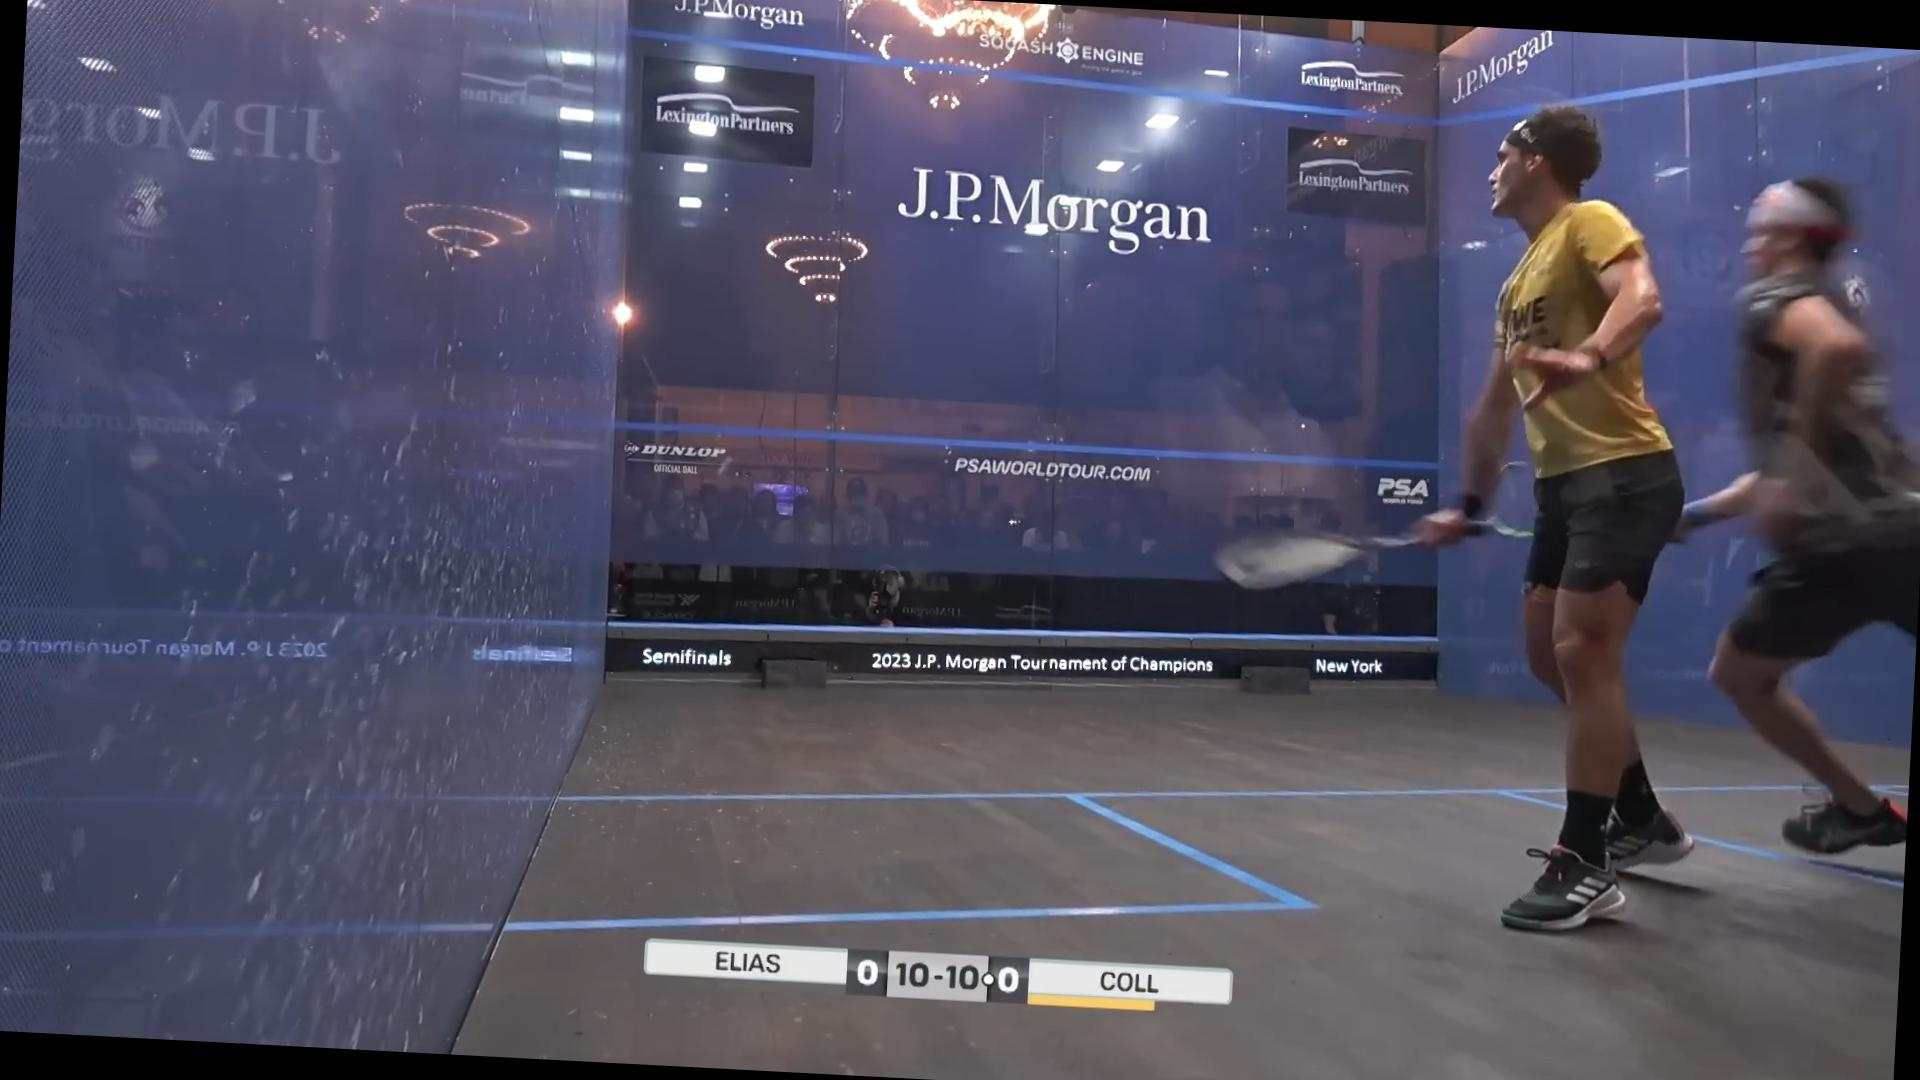Racket: (1203, 497, 1425, 600)
